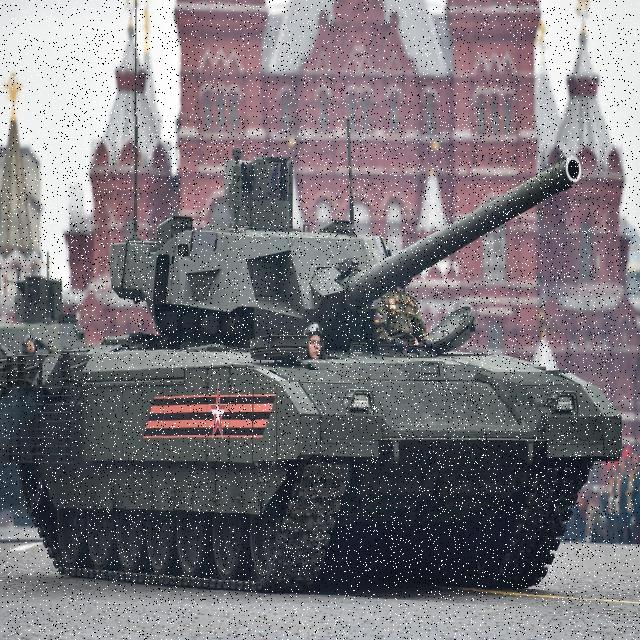MIL_MBT: (67, 116, 614, 582)
